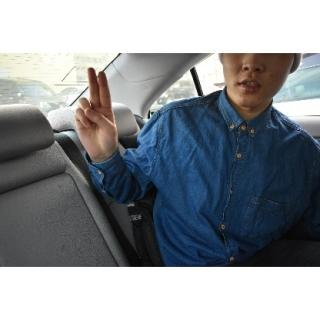TA: (70, 64, 123, 164)
